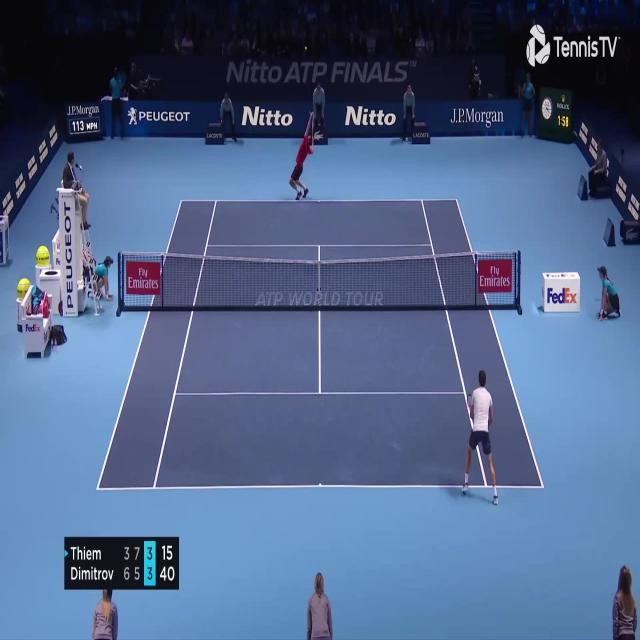bottom-dead-zone: (153, 392, 488, 489)
court: (96, 199, 545, 490)
left-doubles-alley: (96, 199, 218, 490)
left-service-box: (173, 245, 321, 395)
net: (117, 250, 523, 316)
right-doubles-alley: (421, 199, 545, 488)
right-service-box: (318, 244, 467, 394)
top-dead-zone: (205, 199, 434, 247)
